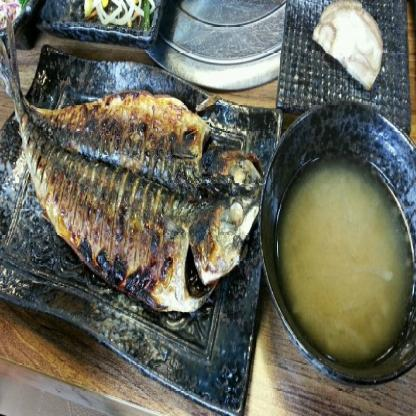Peixe: (0, 40, 279, 322)
